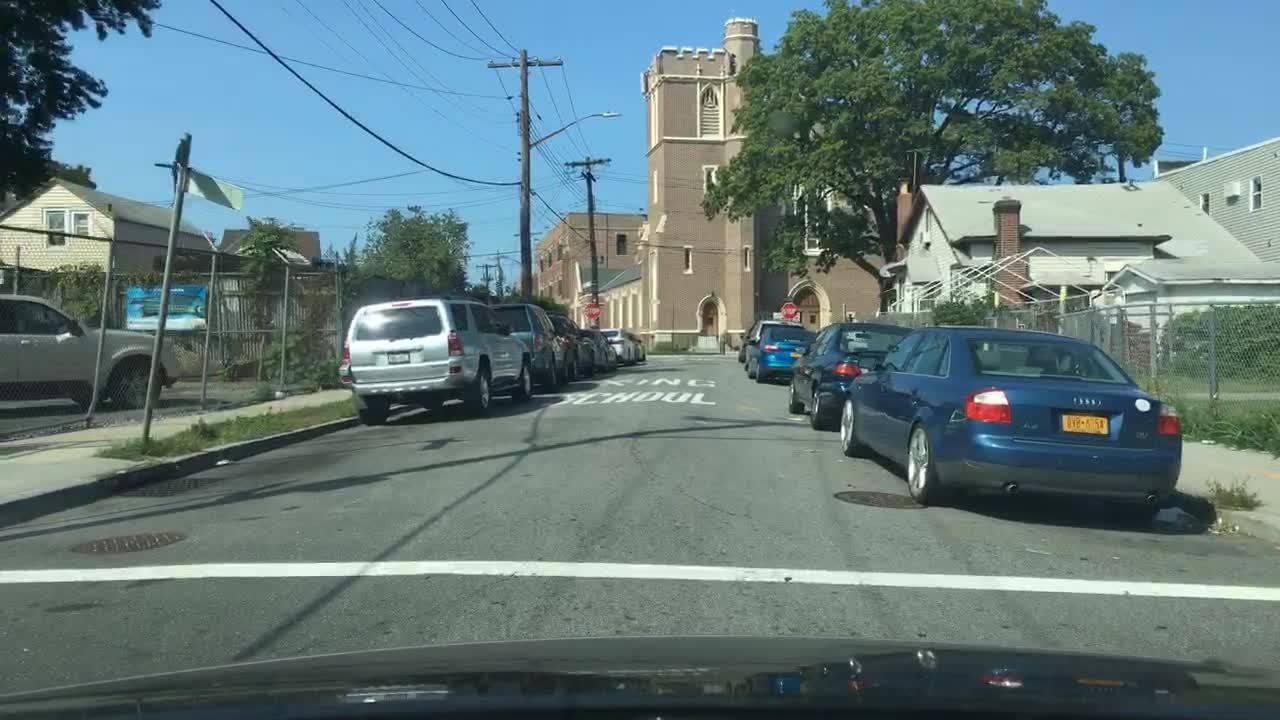Audi: (1069, 393, 1102, 413)
